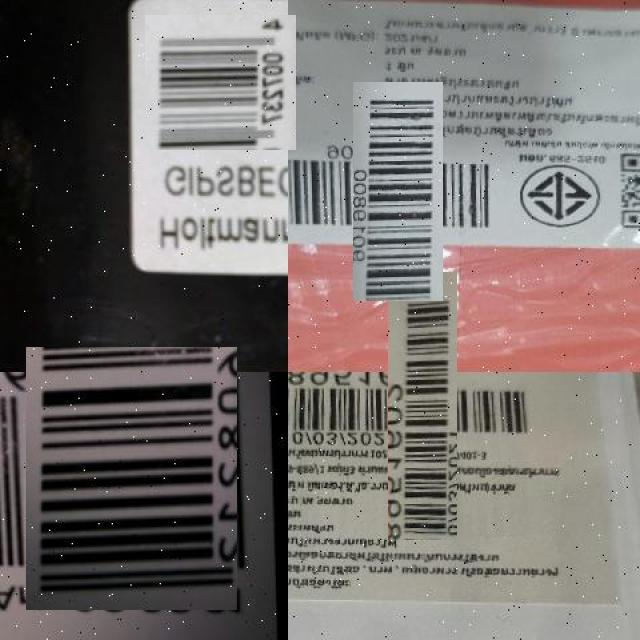Barcode: (13, 359, 250, 597), (338, 322, 507, 491), (320, 114, 476, 270), (149, 11, 292, 154)
